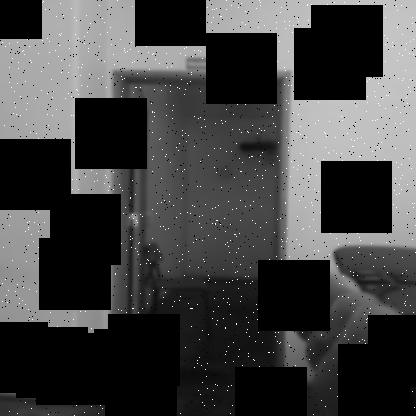Porte: (109, 69, 293, 382)
